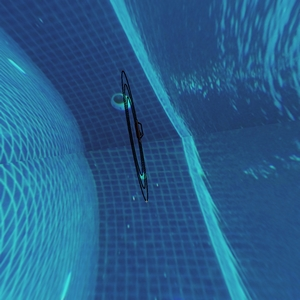circle: (98, 62, 175, 208)
submarine: (131, 118, 146, 140)
